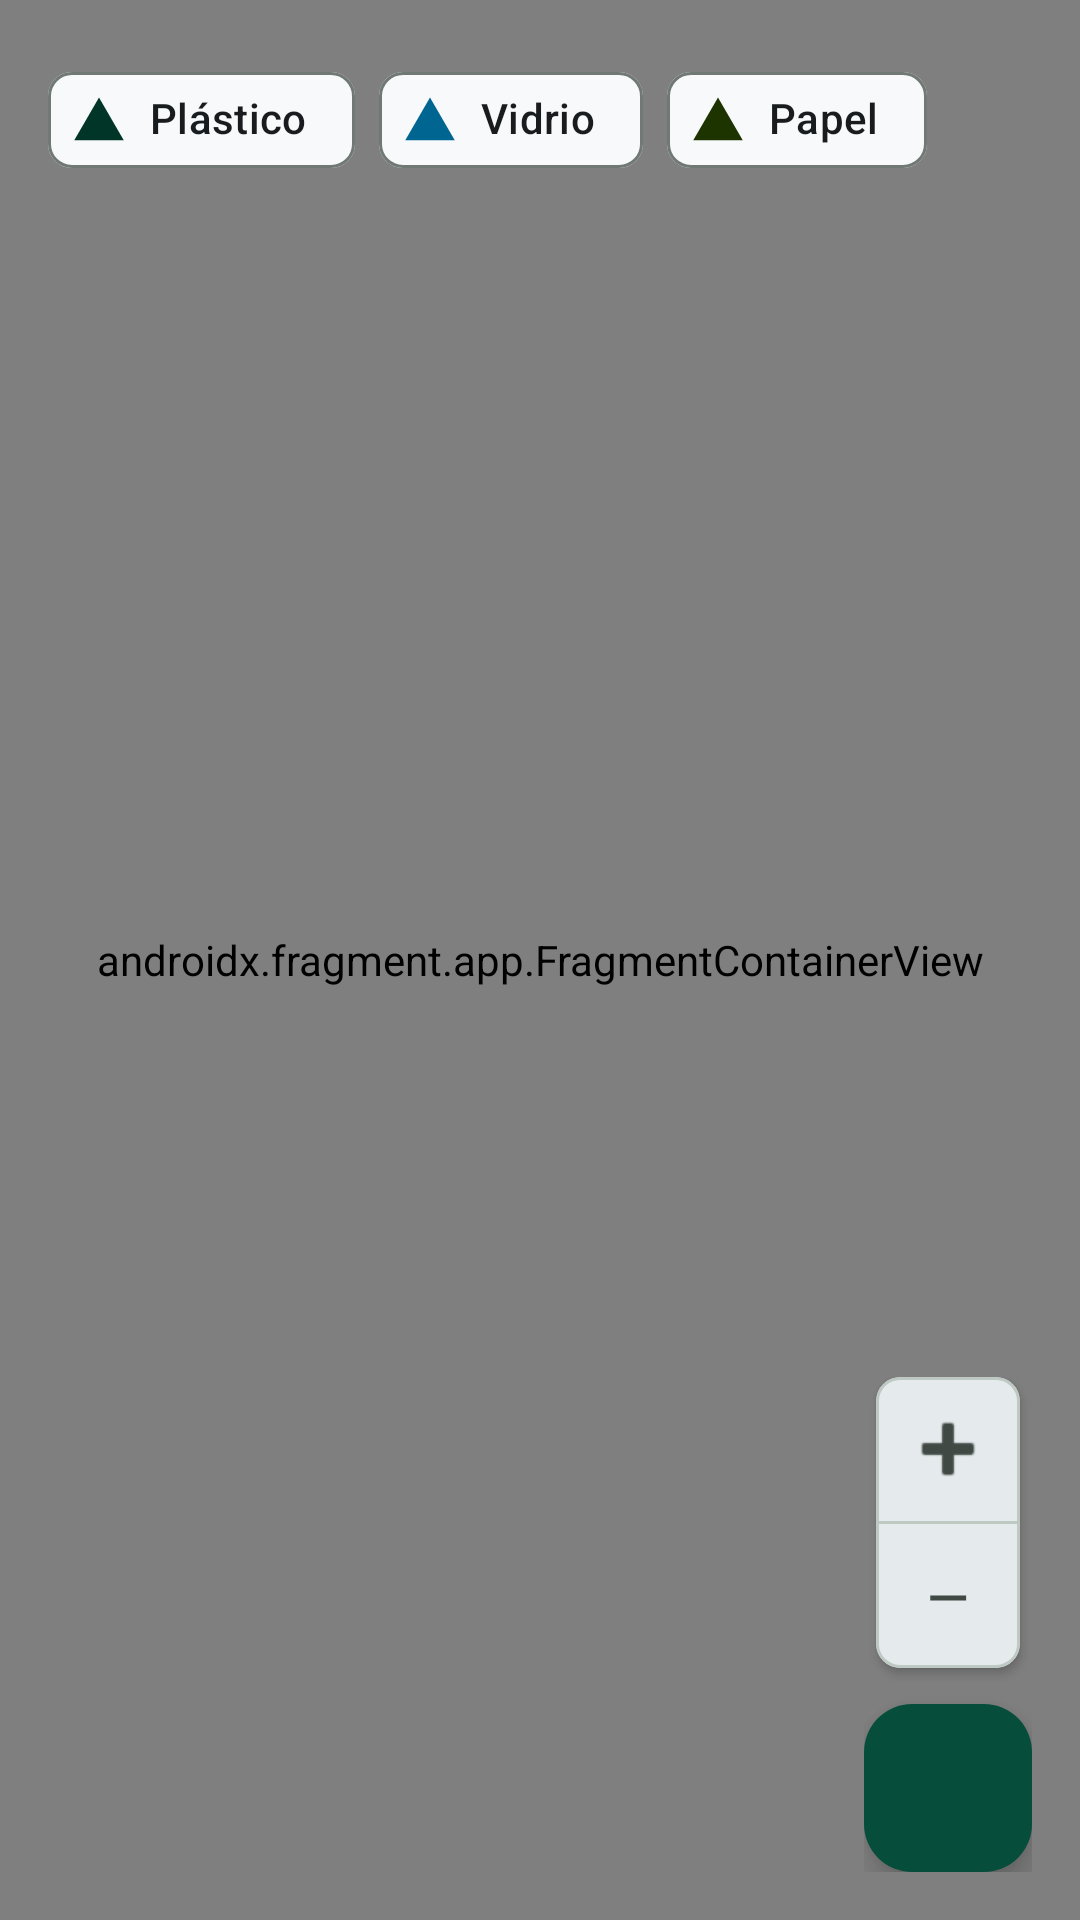

Named icons in this screenshot (1080px x 1920px) and their centers, [x,y]:
Zoom In: [948,1449]
